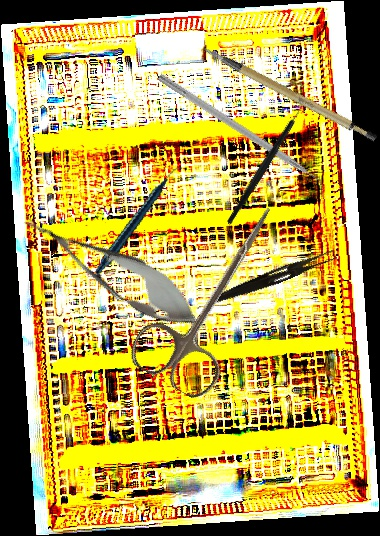Chopper: (151, 72, 333, 201), (192, 94, 338, 226)
Dressing Forceps: (207, 244, 338, 312)
Handpiece: (73, 165, 206, 277)
Iris Scissors: (123, 183, 306, 405)
Micro Scissor: (11, 197, 213, 343)
Scalpel Handle: (202, 21, 380, 163)
